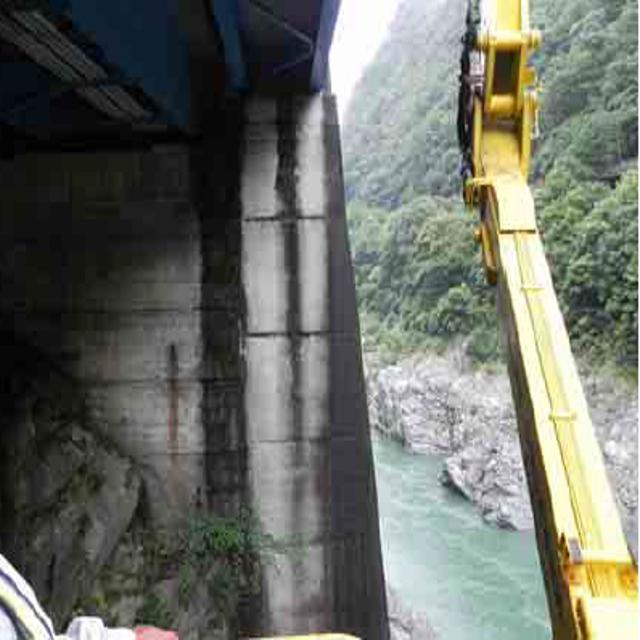leakage: (181, 73, 380, 628)
